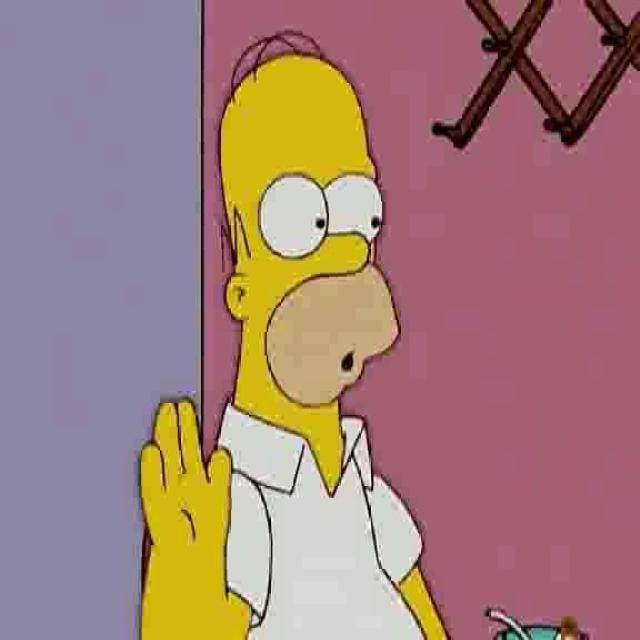Homer Simpson: (213, 23, 403, 448)
